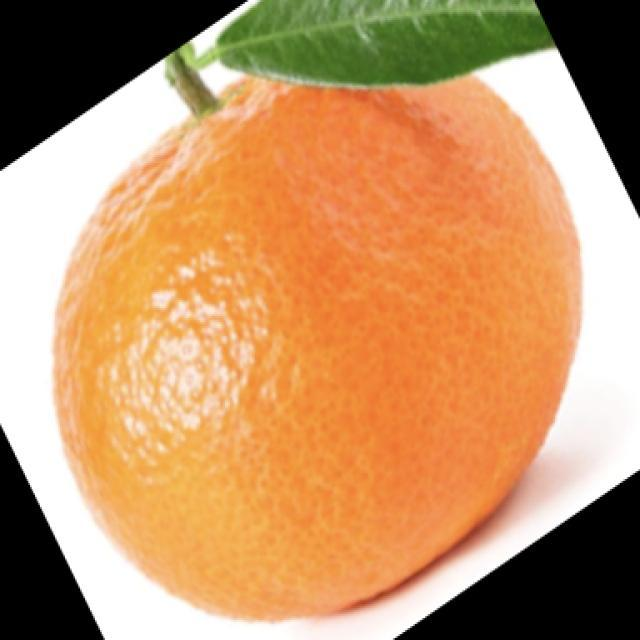matang: (54, 77, 580, 619)
